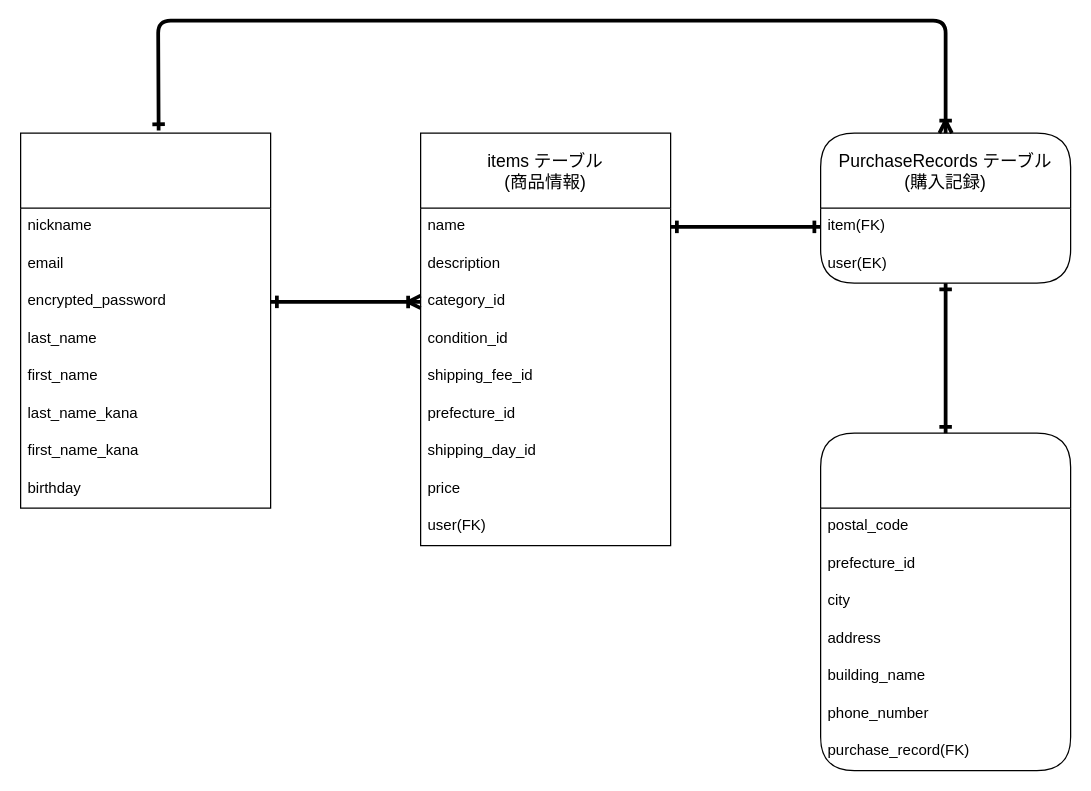
The diagram is 1091 pixels wide and 791 high, and some of its shapes have lost their labels. The shapes that lost their labels are listed below. From the top down, each one's box as (x1, y1, x2, y2) in pixels, then its label:
(19, 132, 271, 508): usersテーブル (ユーザー情報)
(819, 432, 1071, 771): ShippingAddresses テーブル (発送先情報)
